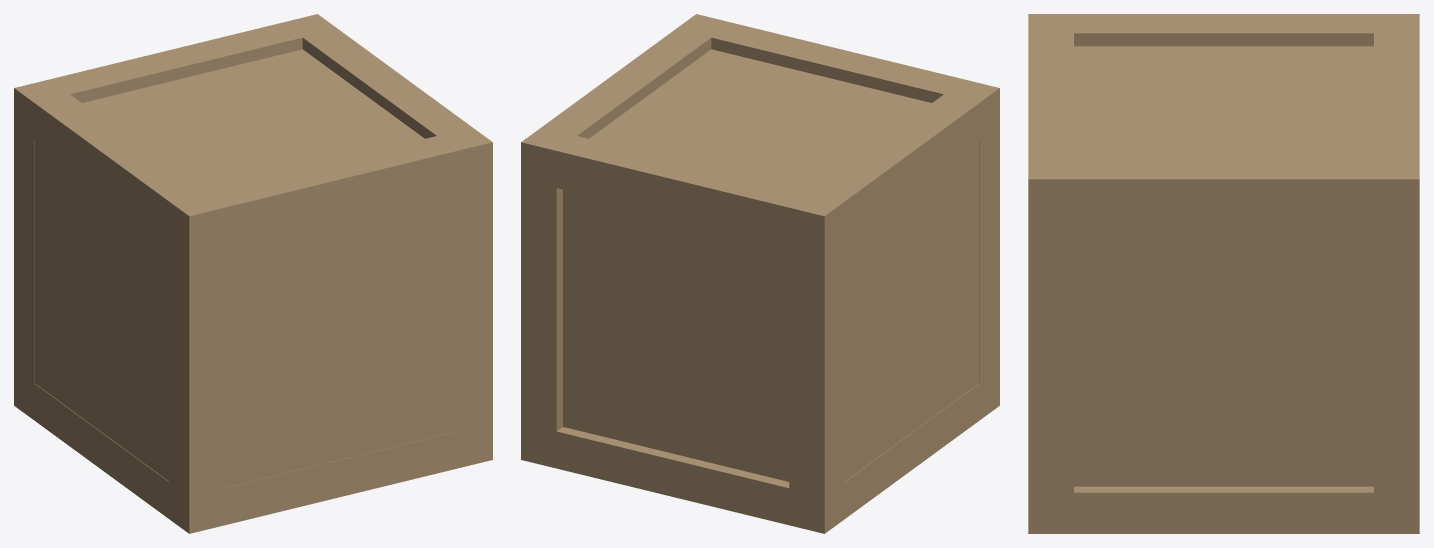
Rendered from prop.crate.small.glb.
The picture shows the model from 3 angles, left to right: view 1: azimuth 30°, elevation 25°; view 2: azimuth 150°, elevation 25°; view 3: azimuth 270°, elevation 25°; orthographic projection. The views are drawn at different scales.
Visible parts, largest first — view 1: prop.crate.small; view 2: prop.crate.small; view 3: prop.crate.small.
Part boxes in pixels (left/top/right/bottom): prop.crate.small: left=14, top=14, right=492, bottom=533; prop.crate.small: left=521, top=14, right=999, bottom=533; prop.crate.small: left=1028, top=14, right=1419, bottom=533.
Bounding box in the file's own units: 0.6 × 0.6 × 0.6.
